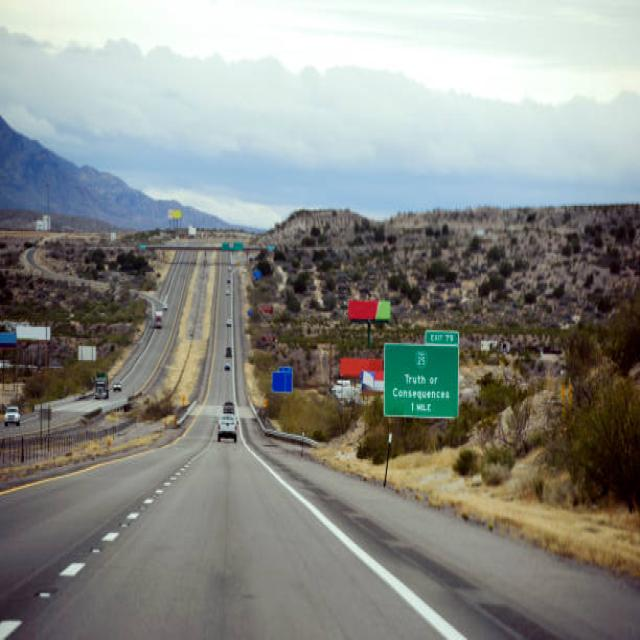Billboard_overhead_small: (234, 229, 248, 258), (218, 230, 232, 256)
Billboard_small: (378, 325, 472, 421), (343, 285, 397, 325), (266, 355, 295, 405), (338, 342, 377, 378), (15, 311, 51, 349), (77, 330, 100, 367), (166, 196, 186, 229)
Roadcorner: (257, 451, 489, 638), (5, 433, 150, 507)
Roadlane: (1, 439, 220, 631)
